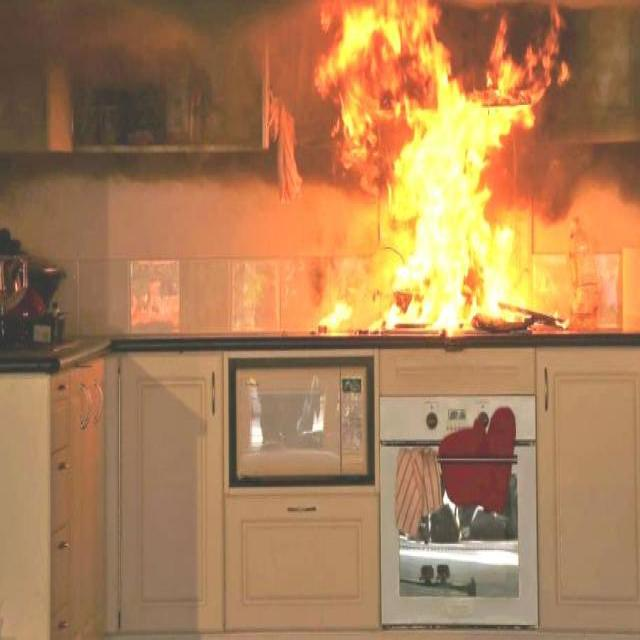Fire_Dangerous: (312, 3, 536, 328)
